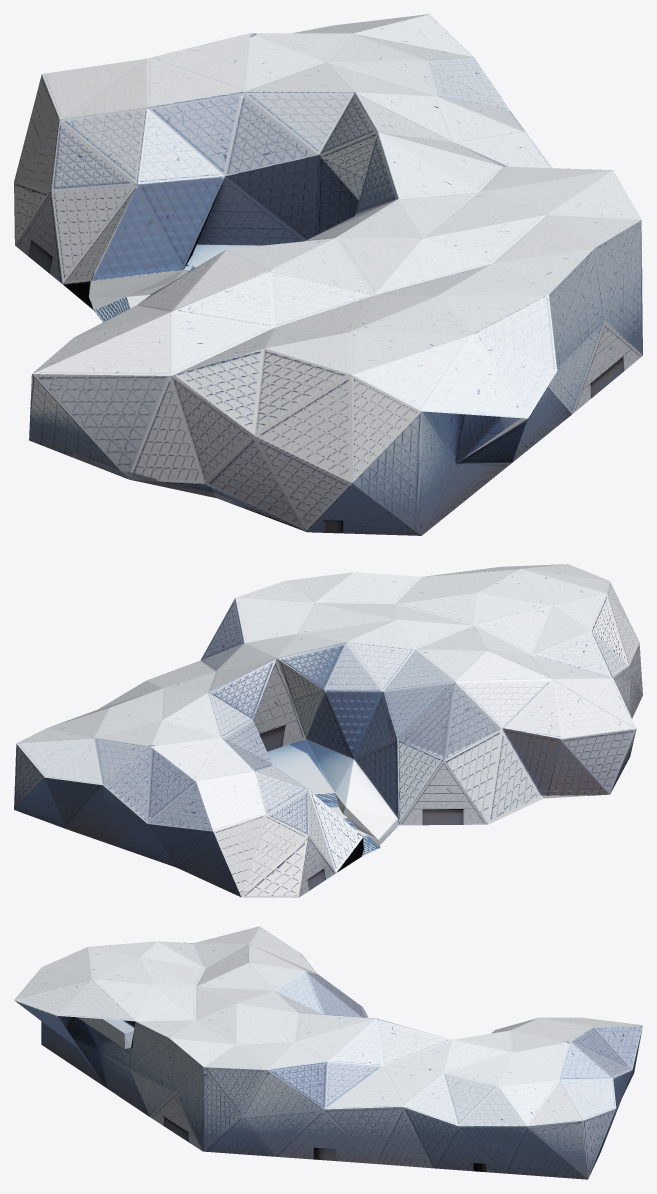
The model's file is a01_placed2.glb.
3 renders of one model, top to bottom at view 1: azimuth 30°, elevation 25°; view 2: azimuth 150°, elevation 25°; view 3: azimuth 270°, elevation 25°, orthographic. The views are drawn at different scales.
Parts seen in each view (by area): view 1: a01.001; view 2: a01.001; view 3: a01.001.
Part boxes in pixels (bbox=[...]): a01.001: bbox=[14, 14, 642, 535]; a01.001: bbox=[14, 564, 642, 897]; a01.001: bbox=[14, 926, 642, 1179].
Size of the model in its own units: 113 by 30.71 by 151.
1 material, 1 textured.
